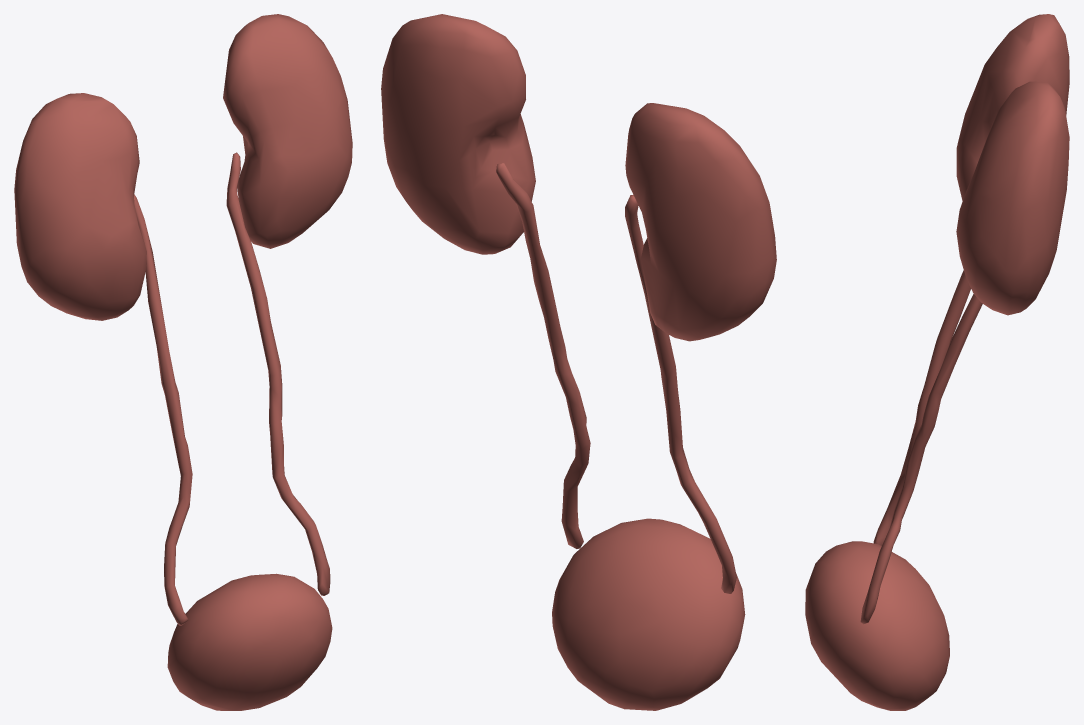
Rendered from pediatric_child_10y_female.urinary.LOD1.glb.
3 renders of one model, left to right at view 1: azimuth 30°, elevation 25°; view 2: azimuth 150°, elevation 25°; view 3: azimuth 270°, elevation 25°, orthographic. The views are drawn at different scales.
Parts seen in each view (by area): view 1: PEDIATRIC.CHILD_10Y.FEMALE.URINARY.KIDNEY_CORTEX.R, PEDIATRIC.CHILD_10Y.FEMALE.URINARY.KIDNEY_CORTEX.L, PEDIATRIC.CHILD_10Y.FEMALE.URINARY.URINARY_BLADDER_WALL, PEDIATRIC.CHILD_10Y.FEMALE.URINARY.URETER.L, PEDIATRIC.CHILD_10Y.FEMALE.URINARY.URETER.R; view 2: PEDIATRIC.CHILD_10Y.FEMALE.URINARY.KIDNEY_CORTEX.L, PEDIATRIC.CHILD_10Y.FEMALE.URINARY.URINARY_BLADDER_WALL, PEDIATRIC.CHILD_10Y.FEMALE.URINARY.KIDNEY_CORTEX.R, PEDIATRIC.CHILD_10Y.FEMALE.URINARY.URETER.L, PEDIATRIC.CHILD_10Y.FEMALE.URINARY.URETER.R; view 3: PEDIATRIC.CHILD_10Y.FEMALE.URINARY.KIDNEY_CORTEX.L, PEDIATRIC.CHILD_10Y.FEMALE.URINARY.URINARY_BLADDER_WALL, PEDIATRIC.CHILD_10Y.FEMALE.URINARY.KIDNEY_CORTEX.R, PEDIATRIC.CHILD_10Y.FEMALE.URINARY.URETER.L, PEDIATRIC.CHILD_10Y.FEMALE.URINARY.URETER.R.
Boxes of the visible parts, x1,y1,x2,y2 form: PEDIATRIC.CHILD_10Y.FEMALE.URINARY.KIDNEY_CORTEX.R: (14, 93, 146, 320); PEDIATRIC.CHILD_10Y.FEMALE.URINARY.KIDNEY_CORTEX.L: (223, 14, 352, 248); PEDIATRIC.CHILD_10Y.FEMALE.URINARY.URINARY_BLADDER_WALL: (167, 573, 332, 710); PEDIATRIC.CHILD_10Y.FEMALE.URINARY.URETER.L: (226, 152, 330, 595); PEDIATRIC.CHILD_10Y.FEMALE.URINARY.URETER.R: (134, 194, 192, 625); PEDIATRIC.CHILD_10Y.FEMALE.URINARY.KIDNEY_CORTEX.L: (381, 14, 535, 254); PEDIATRIC.CHILD_10Y.FEMALE.URINARY.URINARY_BLADDER_WALL: (552, 518, 745, 710); PEDIATRIC.CHILD_10Y.FEMALE.URINARY.KIDNEY_CORTEX.R: (625, 103, 776, 341); PEDIATRIC.CHILD_10Y.FEMALE.URINARY.URETER.L: (496, 162, 590, 548); PEDIATRIC.CHILD_10Y.FEMALE.URINARY.URETER.R: (625, 195, 736, 593); PEDIATRIC.CHILD_10Y.FEMALE.URINARY.KIDNEY_CORTEX.L: (956, 81, 1069, 315); PEDIATRIC.CHILD_10Y.FEMALE.URINARY.URINARY_BLADDER_WALL: (805, 541, 949, 710); PEDIATRIC.CHILD_10Y.FEMALE.URINARY.KIDNEY_CORTEX.R: (956, 14, 1069, 200); PEDIATRIC.CHILD_10Y.FEMALE.URINARY.URETER.L: (860, 294, 982, 624); PEDIATRIC.CHILD_10Y.FEMALE.URINARY.URETER.R: (873, 270, 970, 545).
Bounding box in the file's own units: 0.1566 × 0.2807 × 0.1019.
